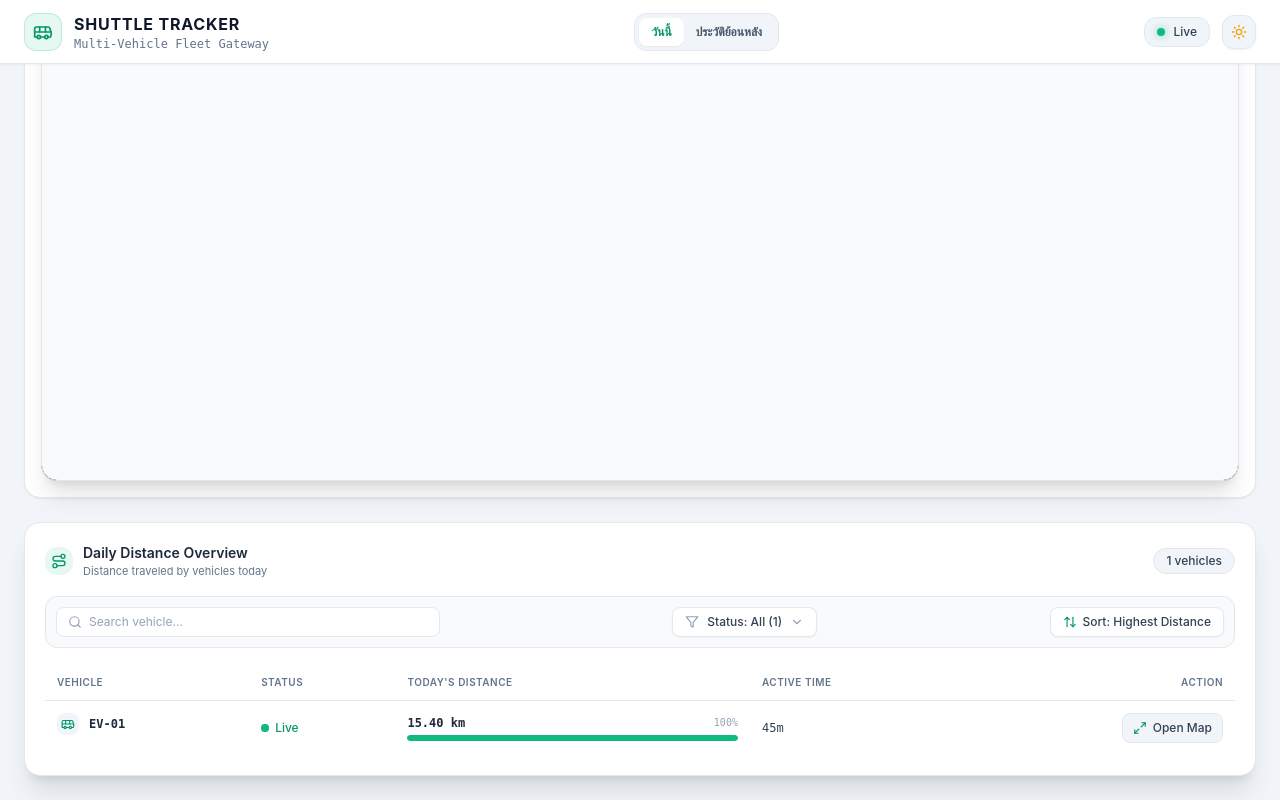
Test: App Integration › opens map in fullscreen mode when a vehicle row is clicked in DailyDistanceTable
The width and height of the screenshot is (1280, 800).
(page scrolled)
Expected: the text "15.40 km" is shown, [407,714,465,730]
Expected: the button "exit full screen" is not shown
// Click "Open map for EV-01" button in the table row
Click the button with aria-label "open map for ev-01".
click(1172, 728)  # box [1122,712,1223,742]
(page scrolled)
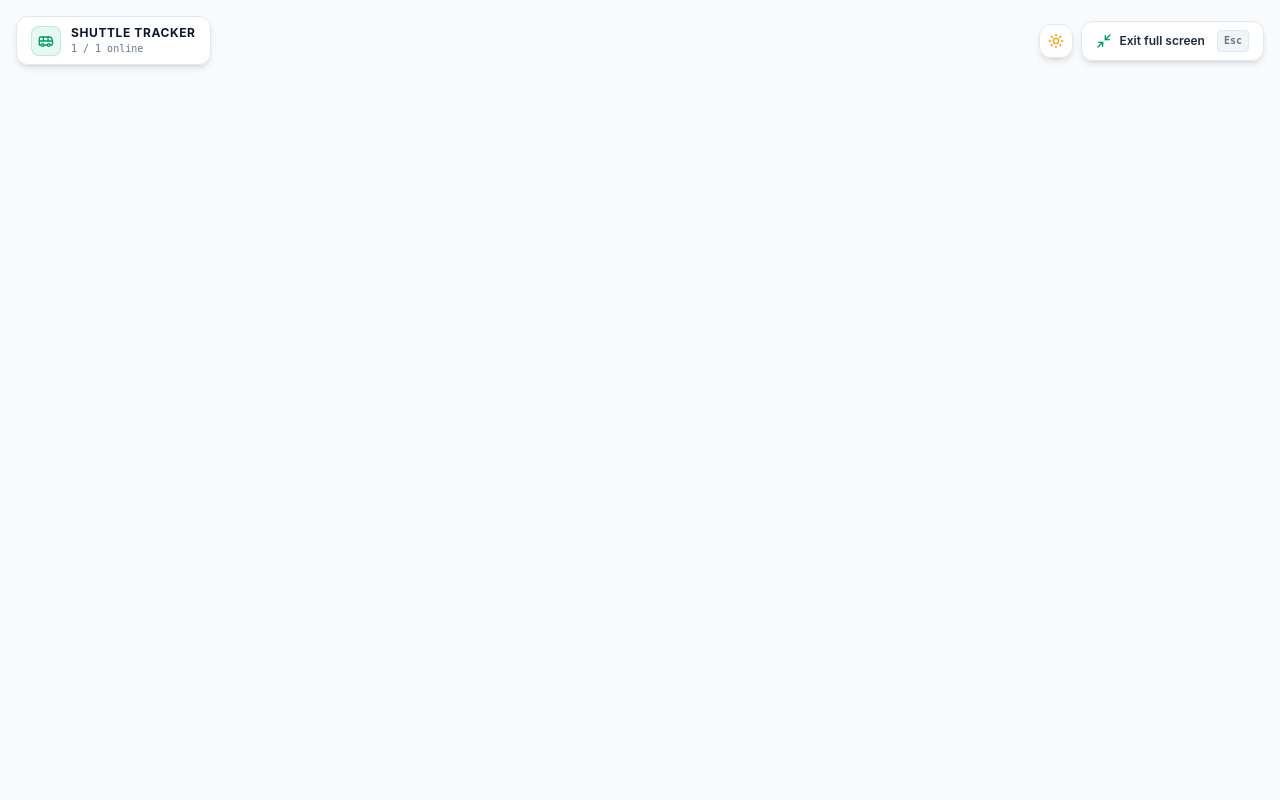
Now the button "Exit full screen Esc" is shown, box [1080,20,1264,60]
